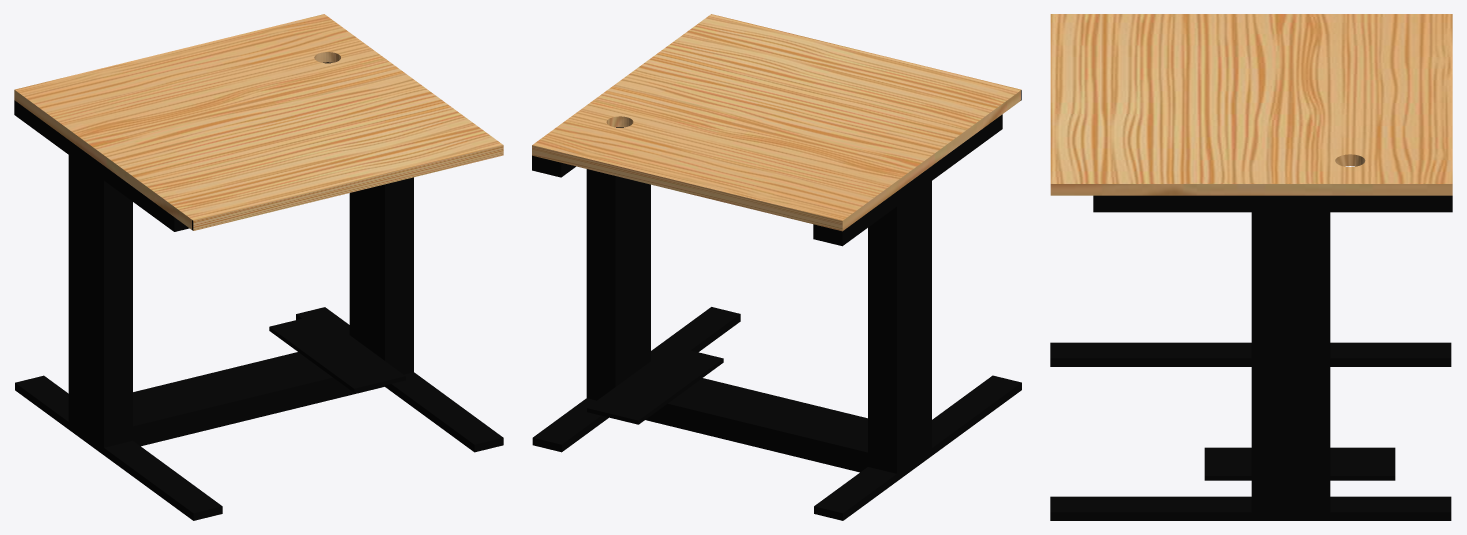
File: table original.fbx
The picture shows the model from 3 angles, left to right: view 1: azimuth 30°, elevation 25°; view 2: azimuth 150°, elevation 25°; view 3: azimuth 270°, elevation 25°; orthographic projection. The views are drawn at different scales.
Parts seen in each view (by area): view 1: Plane; view 2: Plane; view 3: Plane.
Part boxes in pixels (box(x1,y1,x2,y2)): Plane: box(14, 14, 503, 520); Plane: box(532, 14, 1021, 520); Plane: box(1050, 14, 1452, 520).
Bounding box in the file's own units: 80 × 74 × 80.06.
